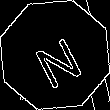N_NW: (26, 23, 84, 87)
